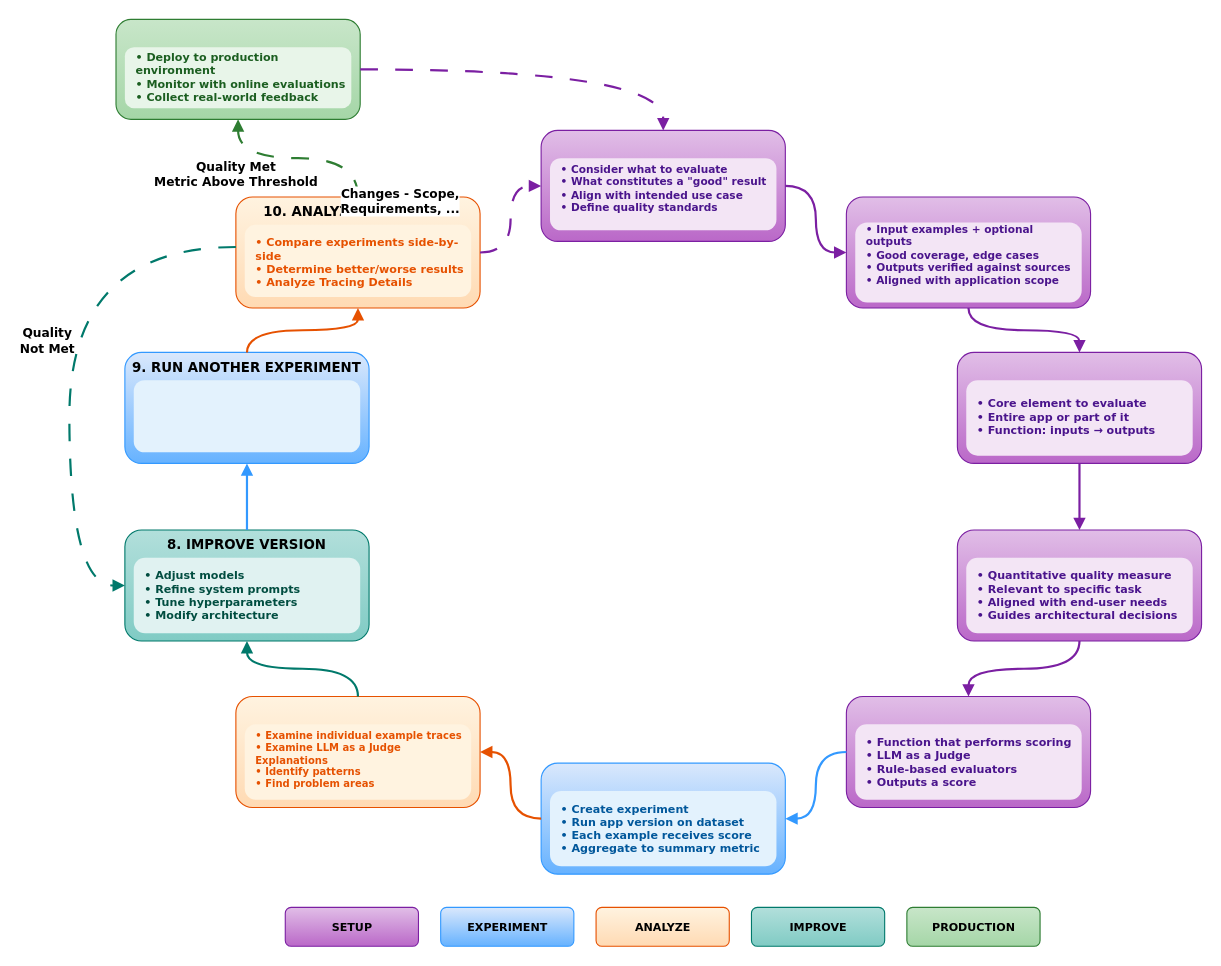
Image size: 1221x966. Some labels were removed from this diagram. Each missing label, with the box of its shape:
1. DEFINE WHAT GOOD IS: (540, 129, 785, 241)
11. PRODUCTION: (115, 18, 360, 119)
2. DEFINE GOLDEN DATASET: (845, 196, 1091, 308)
3. DEFINE TASK: (956, 351, 1202, 463)
4. DEFINE METRIC: (956, 529, 1202, 641)
5. DEFINE EVALUATOR: (845, 695, 1091, 808)
6. TRIGGER EVALUATIONS: (540, 762, 785, 874)
7. ANALYZE RESULTS: (235, 695, 480, 808)
• Test improved version • Use same dataset • Same evaluation setup: (133, 380, 360, 452)
